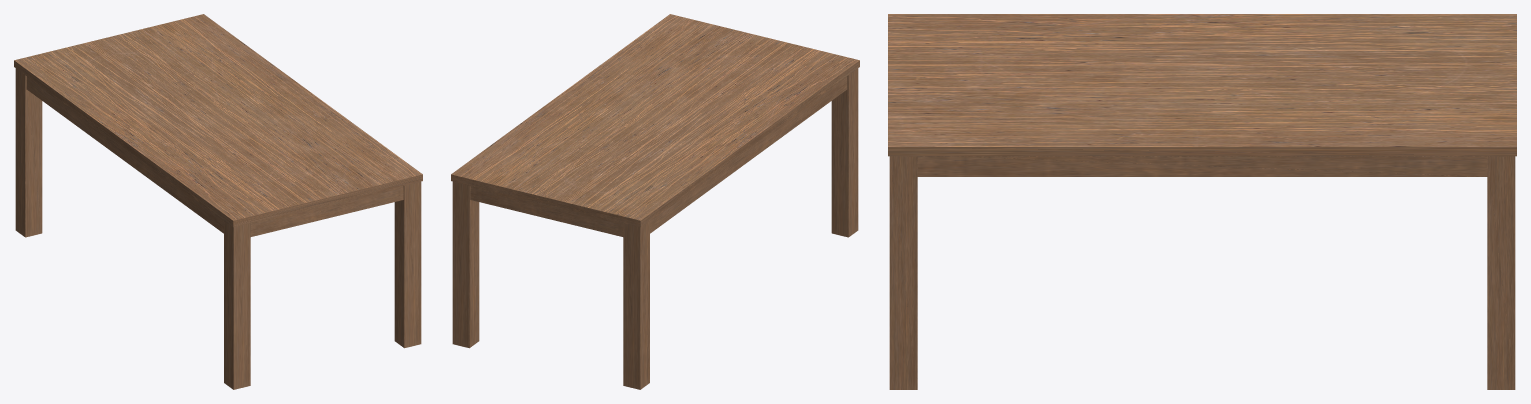
The model's file is oak_dinner_table.glb.
The picture shows the model from 3 angles, left to right: view 1: azimuth 30°, elevation 25°; view 2: azimuth 150°, elevation 25°; view 3: azimuth 270°, elevation 25°; orthographic projection. The views are drawn at different scales.
Visible parts, largest first — view 1: Table; view 2: Table; view 3: Table.
Part boxes in pixels (x1,y1,x2,y2): Table: (14,14,422,389); Table: (451,14,859,389); Table: (888,14,1516,389).
Bounding box in the file's own units: 0.9389 × 0.8053 × 1.88.
Materials: 2 (2 with a texture image).
